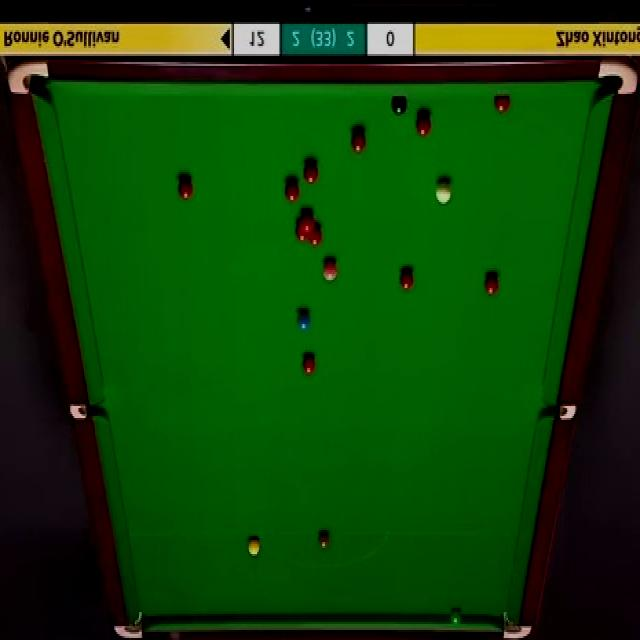black-ball: (392, 95, 408, 117)
blue-ball: (296, 311, 312, 332)
brown-ball: (318, 532, 330, 552)
green-ball: (450, 610, 463, 629)
pink-ball: (322, 254, 340, 286)
red-ball: (176, 172, 197, 204), (303, 160, 320, 189), (302, 349, 320, 376), (398, 267, 415, 294), (415, 110, 432, 136), (281, 179, 301, 201), (350, 131, 365, 155), (484, 271, 498, 296), (294, 218, 308, 242), (309, 222, 322, 246), (493, 97, 511, 114), (300, 210, 316, 229)
white-ball: (435, 179, 451, 204)
yellow-ball: (247, 538, 259, 554)
